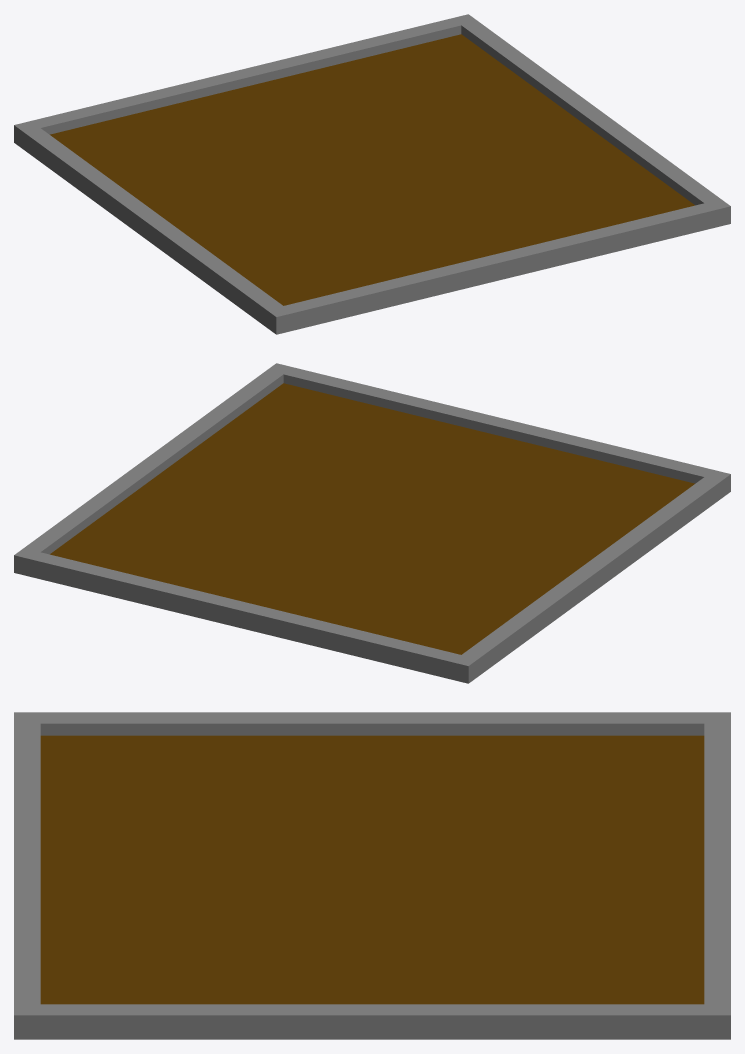
File: MapV3.fbx
3 views of the same model, one above another, from view 1: azimuth 30°, elevation 25°; view 2: azimuth 150°, elevation 25°; view 3: azimuth 270°, elevation 25° (orthographic). The views are drawn at different scales.
Visible parts, largest first — view 1: Center, TopWall.001, TopWall, LeftWall, RightWall; view 2: Center, TopWall, TopWall.001, LeftWall, RightWall; view 3: Center, RightWall, LeftWall, TopWall, TopWall.001.
Part boxes in pixels (left/top/right/bottom): Center: left=50, top=34, right=694, bottom=305; TopWall.001: left=266, top=199, right=730, bottom=334; TopWall: left=14, top=14, right=477, bottom=149; LeftWall: left=23, top=128, right=282, bottom=327; RightWall: left=461, top=21, right=720, bottom=205; Center: left=50, top=383, right=694, bottom=654; TopWall: left=14, top=548, right=478, bottom=683; TopWall.001: left=267, top=363, right=730, bottom=498; LeftWall: left=462, top=477, right=721, bottom=676; RightWall: left=24, top=370, right=283, bottom=554; Center: left=40, top=735, right=704, bottom=1004; RightWall: left=40, top=1004, right=704, bottom=1039; LeftWall: left=40, top=712, right=704, bottom=735; TopWall: left=704, top=712, right=730, bottom=1039; TopWall.001: left=14, top=712, right=40, bottom=1039.
Bounding box in the file's own units: 10800 × 400 × 10800.
